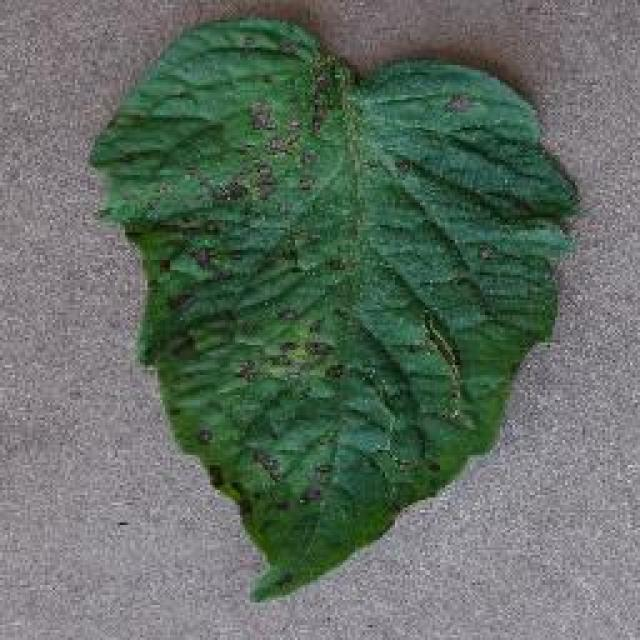Tomato___Early_blight: (86, 13, 580, 604)
